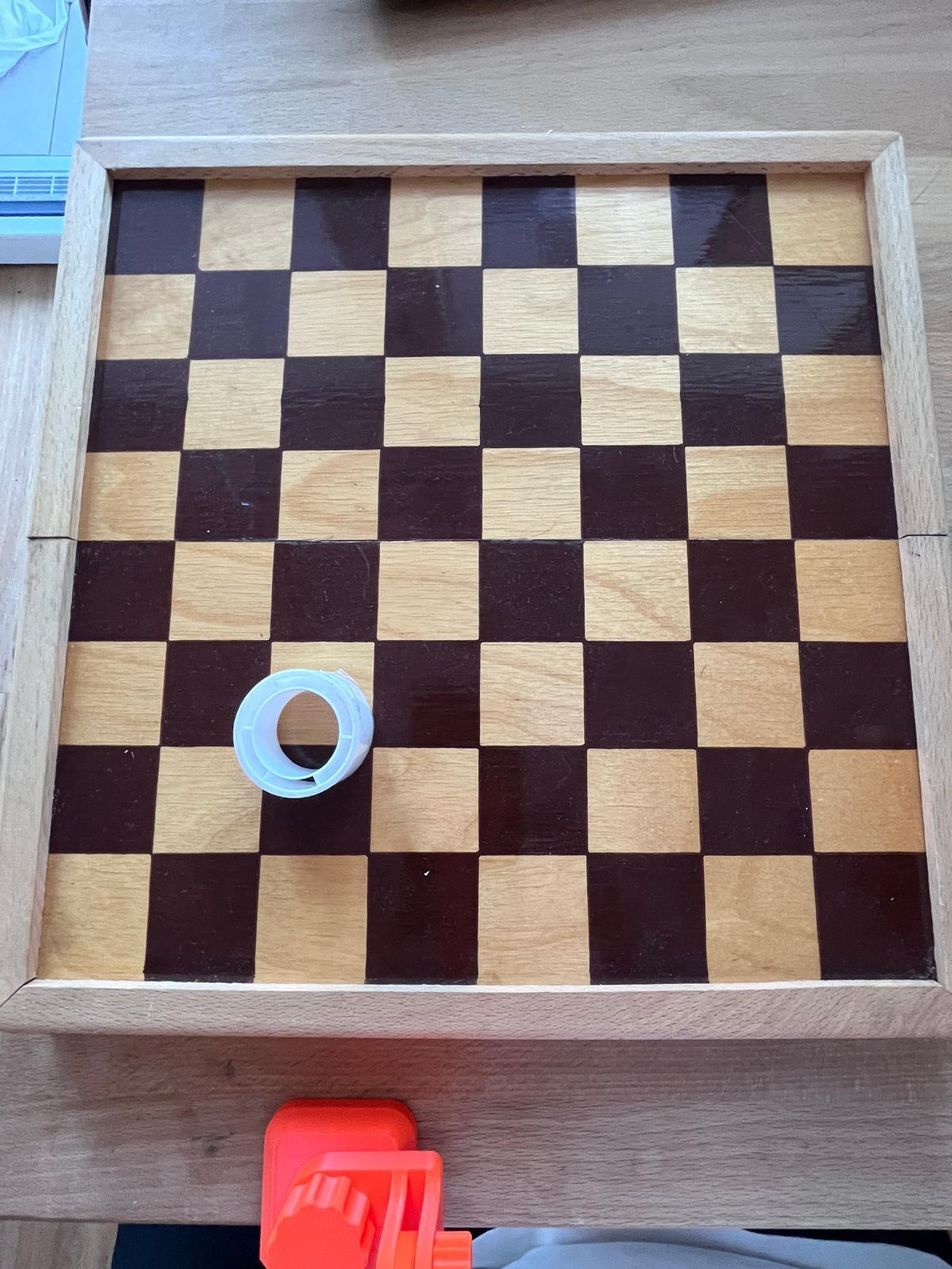tape: (228, 668, 374, 801)
